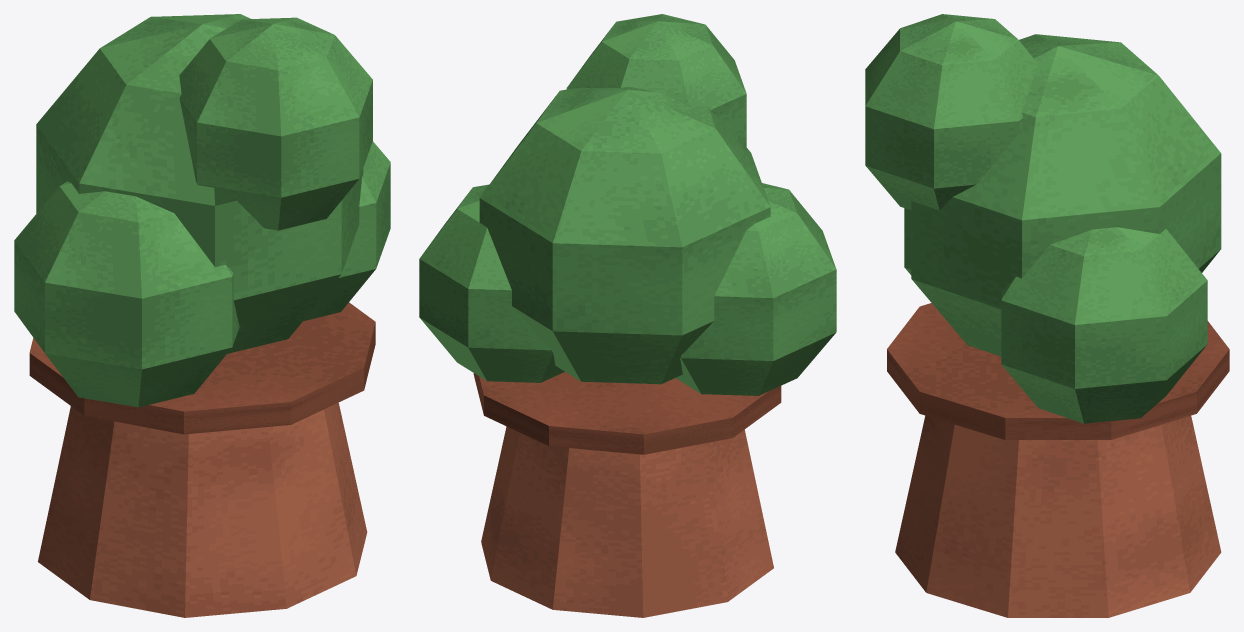
File: prop_plant.glb
3 views of the same model, side by side, from view 1: azimuth 30°, elevation 25°; view 2: azimuth 150°, elevation 25°; view 3: azimuth 270°, elevation 25° (orthographic). The views are drawn at different scales.
Parts seen in each view (by area): view 1: prop_plant; view 2: prop_plant; view 3: prop_plant.
Boxes of the visible parts, <box> form: prop_plant: <box>14,14,390,617</box>; prop_plant: <box>419,14,836,617</box>; prop_plant: <box>865,14,1229,617</box>.
Bounding box in the file's own units: 1.08 × 1.46 × 0.8928.
Materials: 1 (1 with a texture image).
